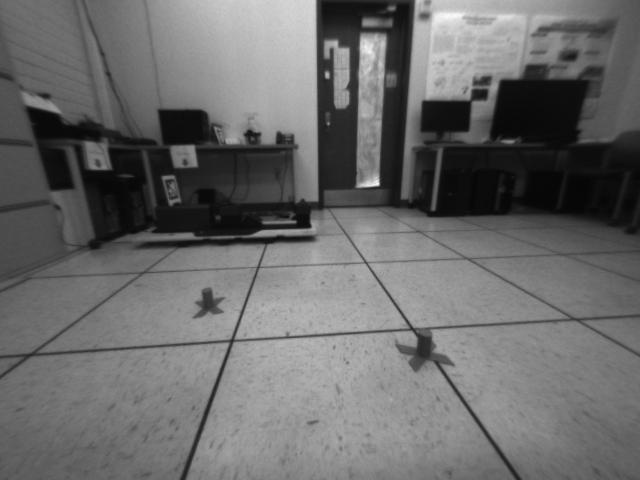X: (395, 327, 455, 374), (191, 286, 226, 320)
